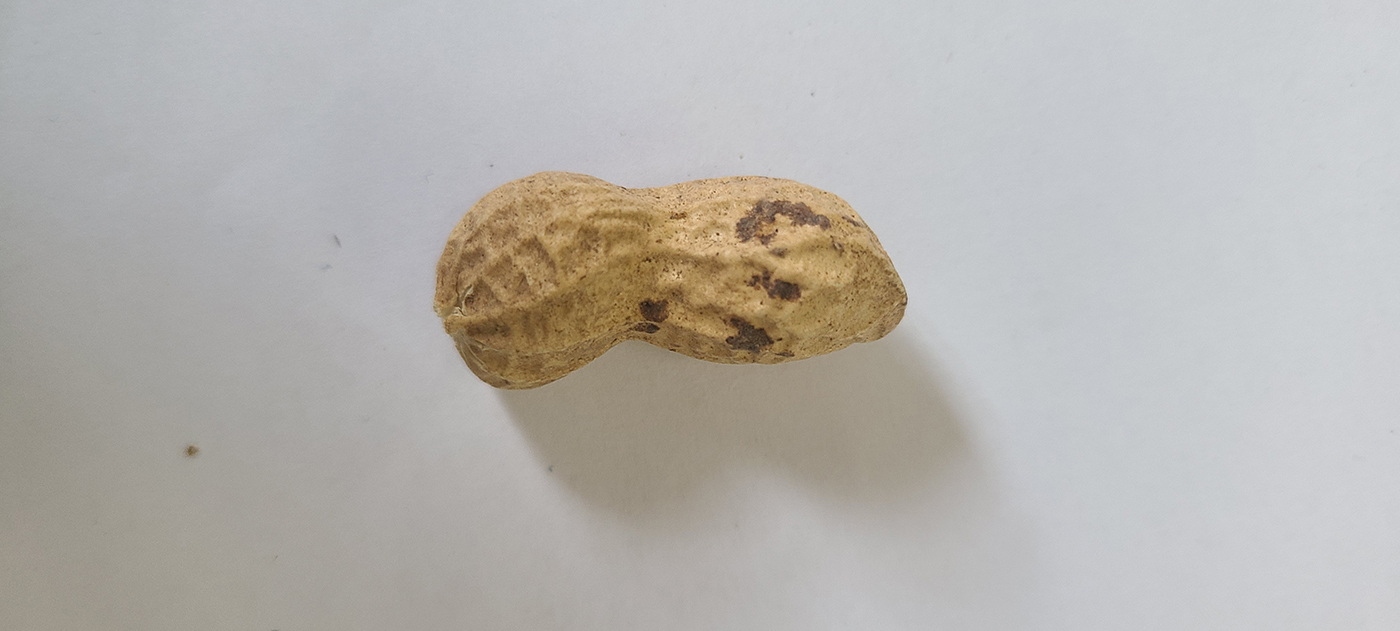h: (429, 168, 910, 393)
